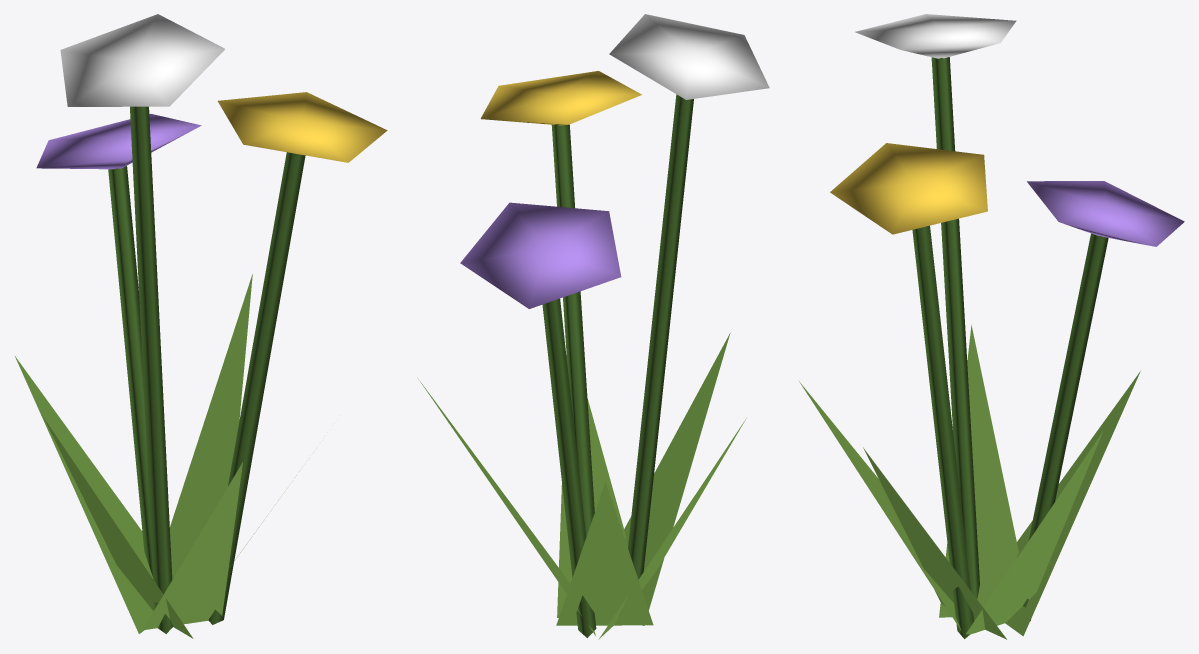
Rendered from flowers.far.glb.
3 views of the same model, side by side, from view 1: azimuth 30°, elevation 25°; view 2: azimuth 150°, elevation 25°; view 3: azimuth 270°, elevation 25° (orthographic). The views are drawn at different scales.
Visible parts, largest first — view 1: flowers; view 2: flowers; view 3: flowers.
Part boxes in pixels (box(x1,y1,x2,y2)): flowers: box(15, 14, 387, 638); flowers: box(418, 14, 769, 639); flowers: box(798, 14, 1184, 639).
Bounding box in the file's own units: 0.1426 × 0.2712 × 0.1654.
